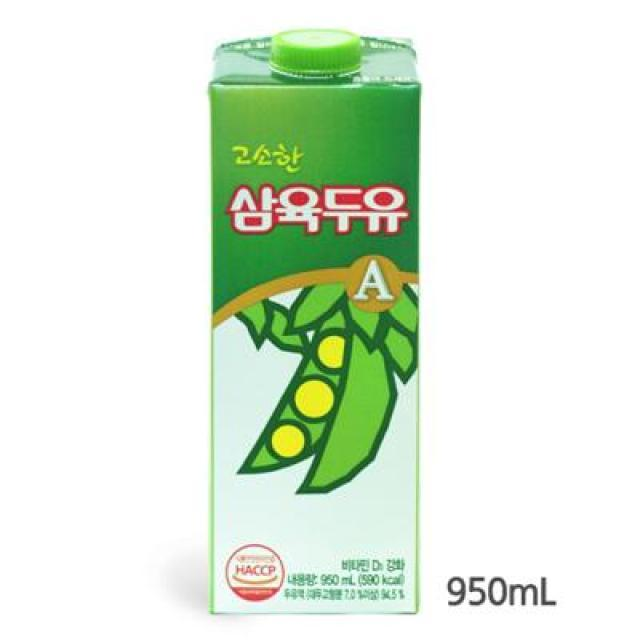Tetra: (206, 31, 420, 620)
